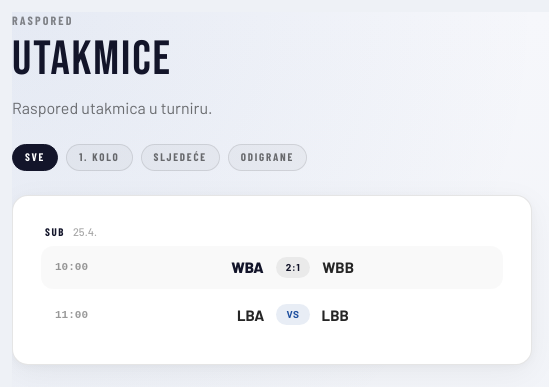
Test case: Matches filters › shows round one matches only in the dedicated prvo kolo filter
Check: the text "R1A" is not shown
Check: the text "WBA" is shown, box [231,258,264,276]
Click the button "Sljedeće".
click(180, 157)  # box [140,144,220,170]
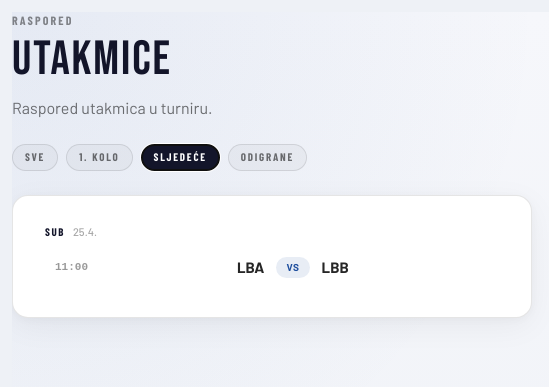
Check: the text "R1A" is not shown
Check: the link "WBA" is gone
Click the button "Odigrane".
click(267, 157)  # box [228,144,307,170]
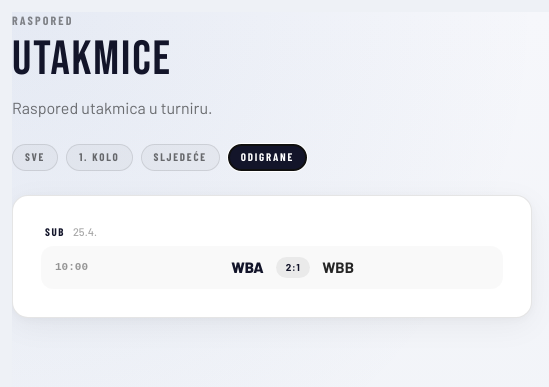
Check: the text "R1A" is not shown
Check: the text "WBA" is shown, box [231,258,264,276]
Check: the link "LBA" is gone
Click the button "1. kolo".
click(99, 157)  # box [66,144,132,170]
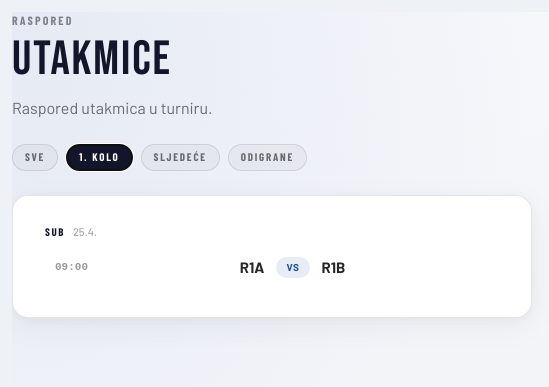
Check: the link "LBA" is not shown
Check: the text "R1A" is shown, box [240,258,264,276]
Check: the link "WBA" is gone
